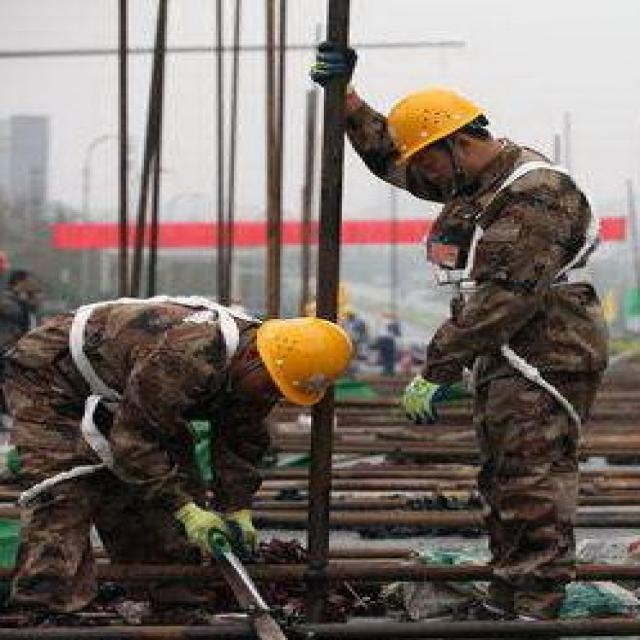Arnes_seguridad: (39, 288, 262, 412), (416, 156, 604, 296)
